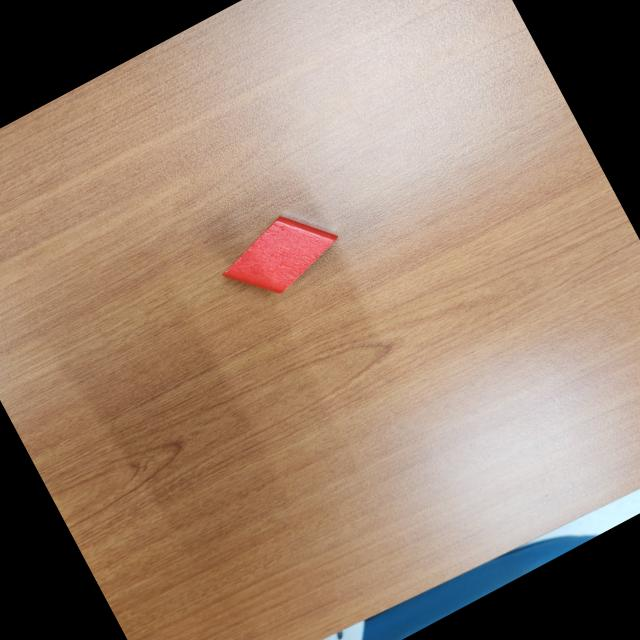red: (211, 196, 351, 314)
